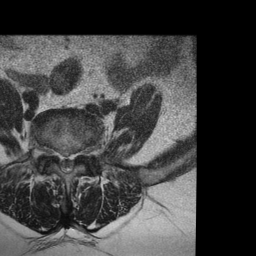CCS_normal: (63, 148, 70, 179)
LFS_severe_stenosis: (76, 143, 84, 164)
LLS_normal: (70, 146, 76, 173)
RFS_stenosis: (51, 141, 57, 164)
RLS_normal: (57, 145, 63, 174)
